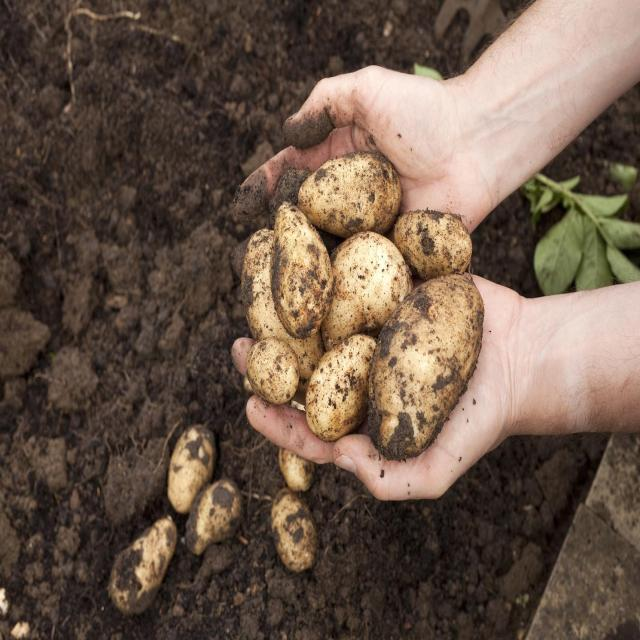papa: (364, 269, 494, 472), (268, 201, 339, 344)
